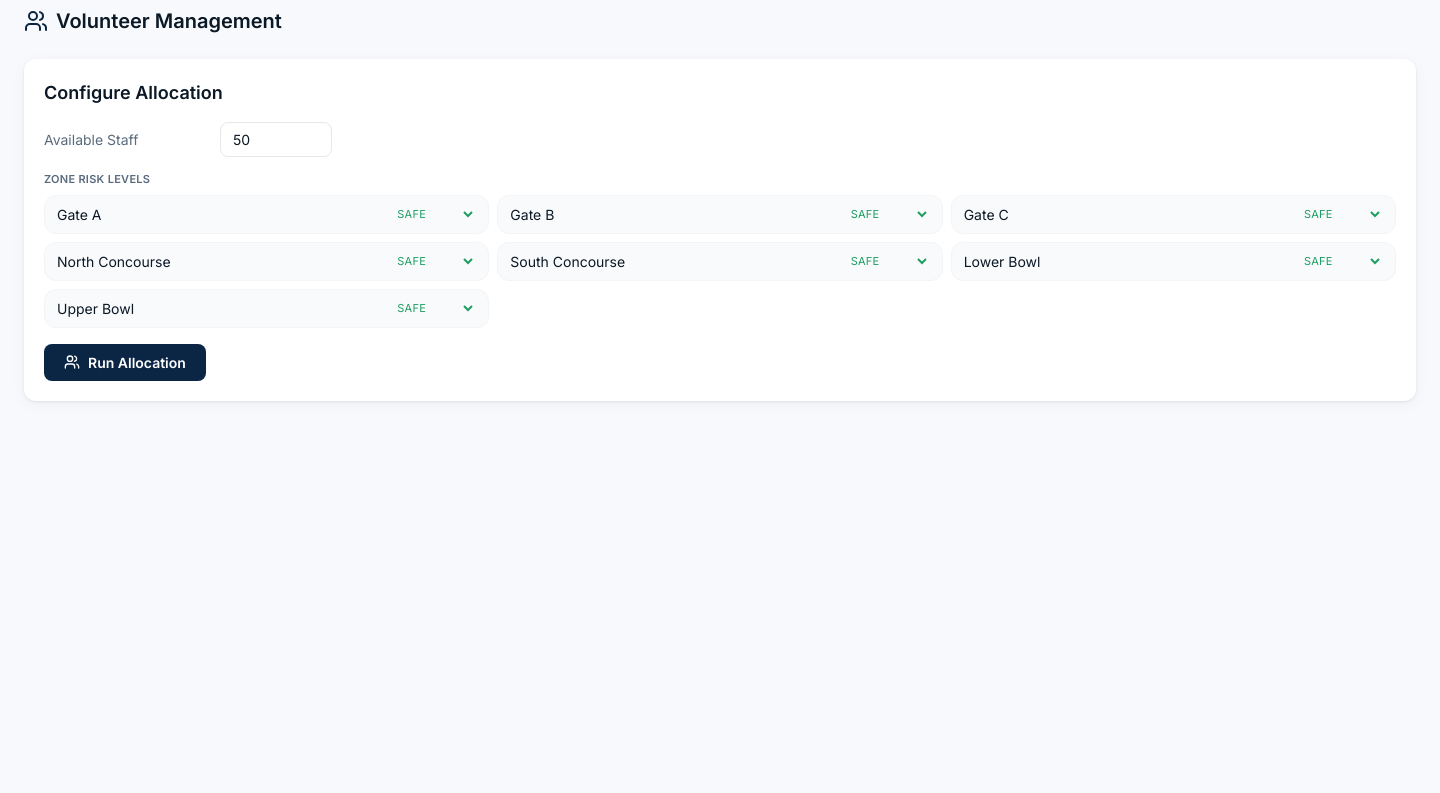
it: VolunteerPanel › renders correctly and submits allocation request
The width and height of the screenshot is (1440, 793).
Expected: the heading "Volunteer Management" is shown, [24,9,282,33]
Click the button "Run Allocation" at (125, 362), box [44,344,206,381]
(page scrolled)
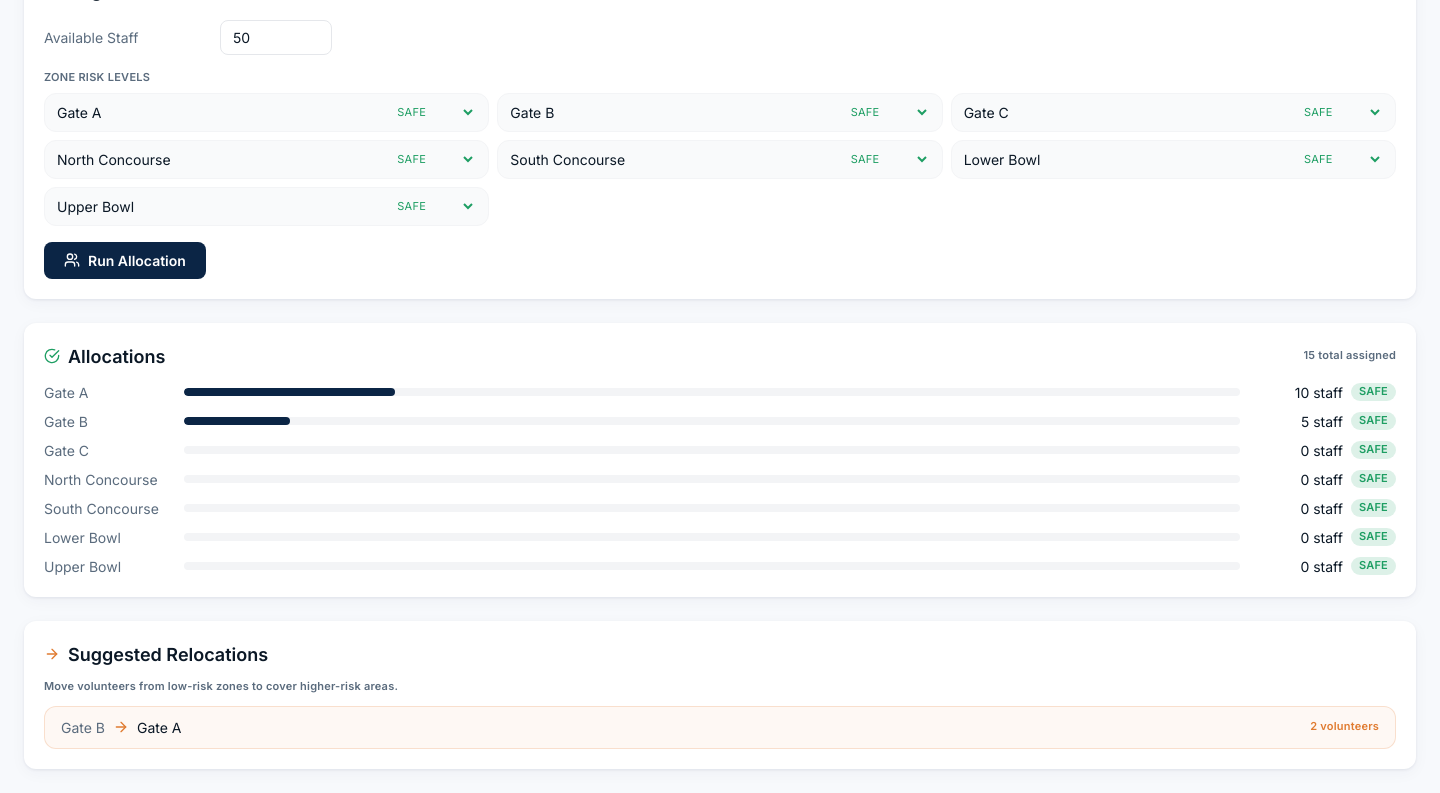
Expected: the heading "Allocations 15 total assigned" is shown, [44,343,1396,370]
Expected: the text "15 total assigned" is shown, [1304,349,1396,363]
Expected: the text "2 volunteers" is shown, [1310,720,1379,734]
